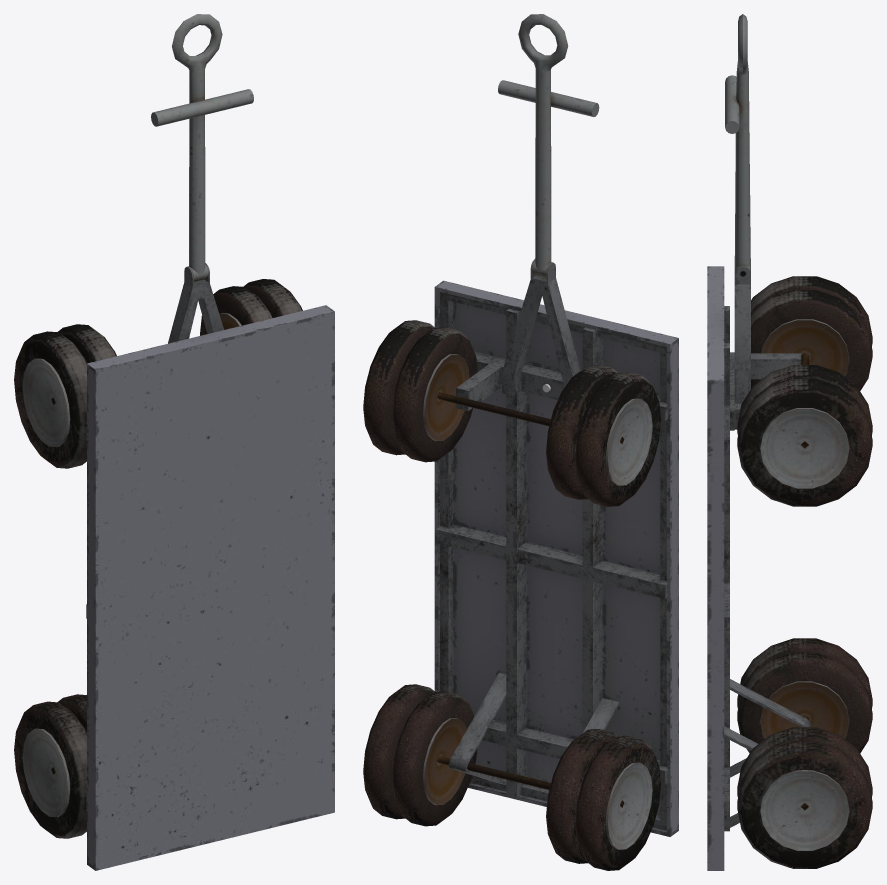
3 views of the same model, side by side, from view 1: azimuth 30°, elevation 25°; view 2: azimuth 150°, elevation 25°; view 3: azimuth 270°, elevation 25° (orthographic). The views are drawn at different scales.
Parts seen in each view (by area): view 1: Cart.029; view 2: Cart.029; view 3: Cart.029.
Boxes of the visible parts, x1=… form: Cart.029: x1=14, y1=14, x2=334, y2=870; Cart.029: x1=363, y1=14, x2=678, y2=870; Cart.029: x1=707, y1=14, x2=872, y2=870.
Size of the model in its own units: 1 by 3.25 by 0.6102.
Materials: 1 (1 with a texture image).
